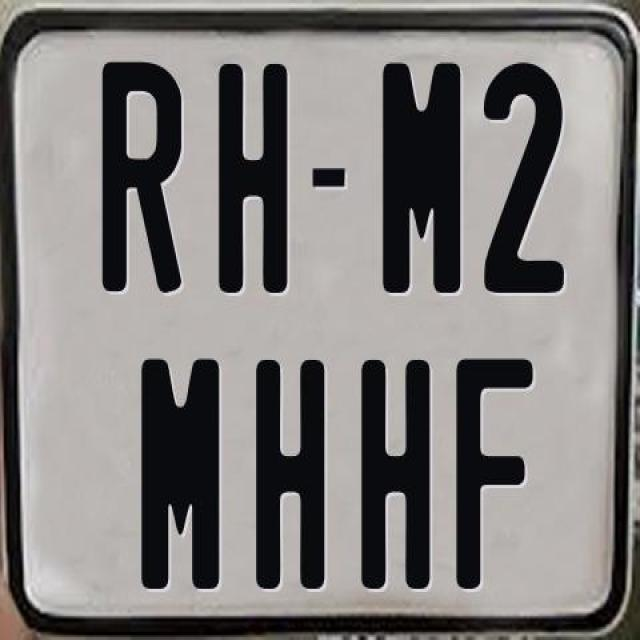2: (482, 58, 564, 292)
F: (452, 356, 531, 588)
H: (360, 356, 435, 594), (216, 59, 292, 288), (254, 358, 322, 590)
M: (378, 59, 462, 290), (140, 355, 223, 587)
